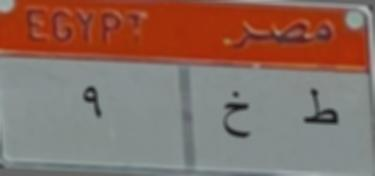9: (73, 76, 108, 130)
Taa: (299, 82, 342, 140)
khaa: (217, 86, 254, 146)
